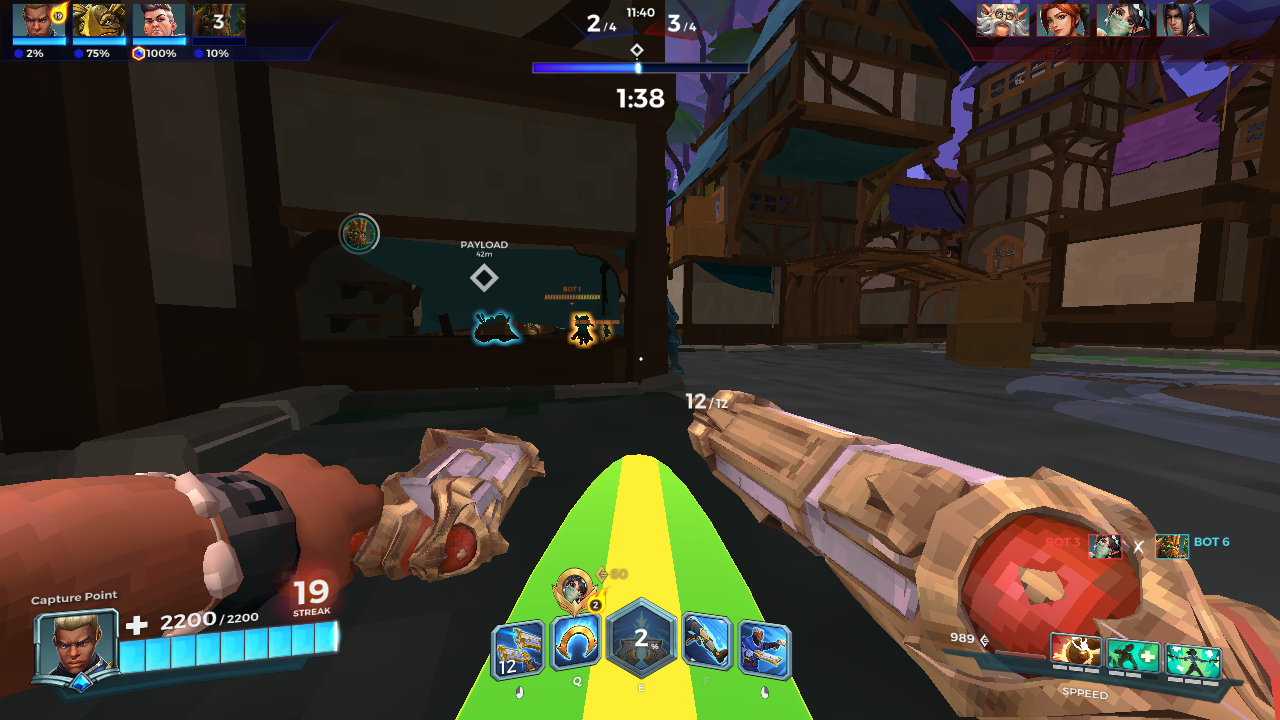model: (568, 308, 596, 347)
